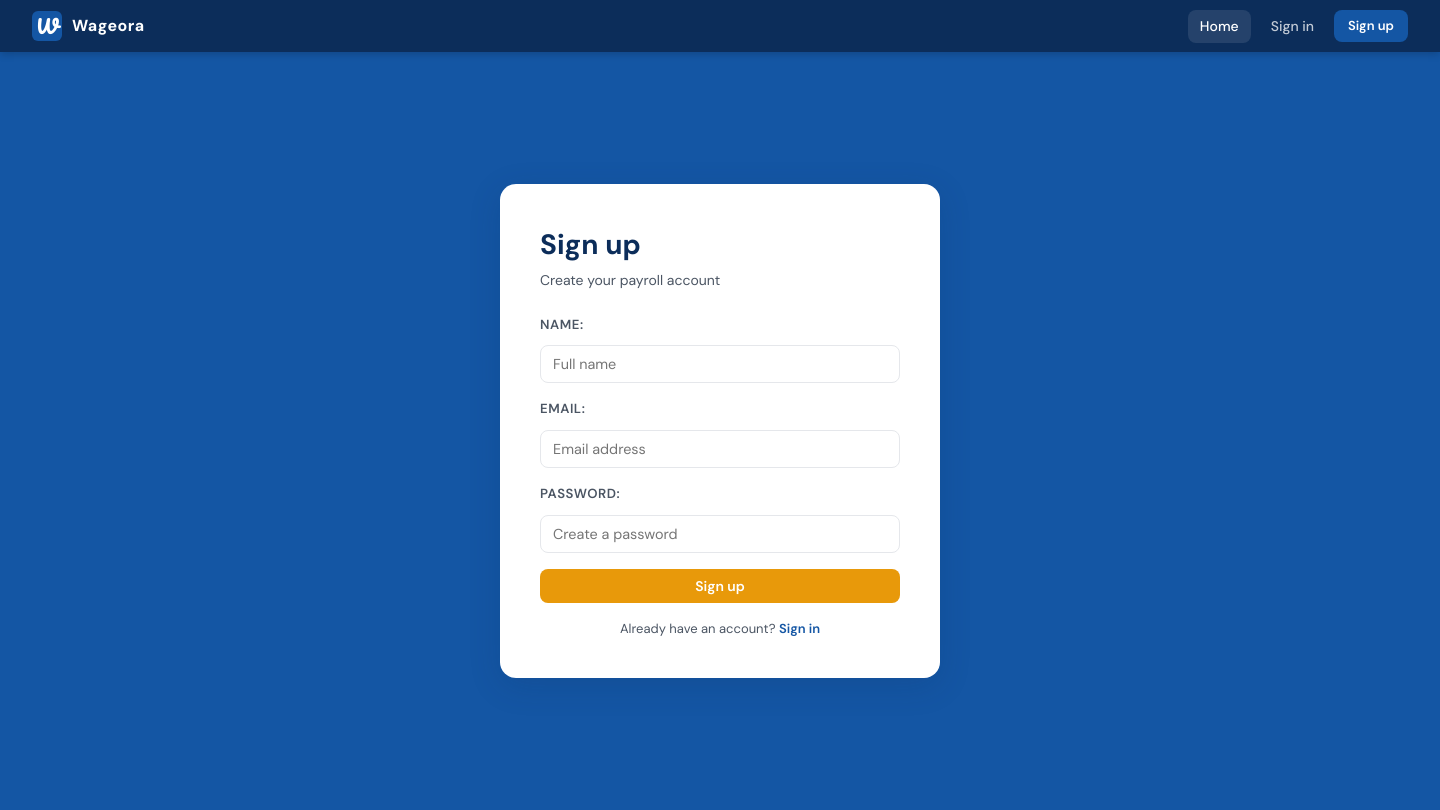
Scenario: SignUpPage › shows password error for short password
The image size is (1440, 810).
Type "Valid Name" into the field with placeholder "Full name" at (720, 364), box [540,345,900,383]
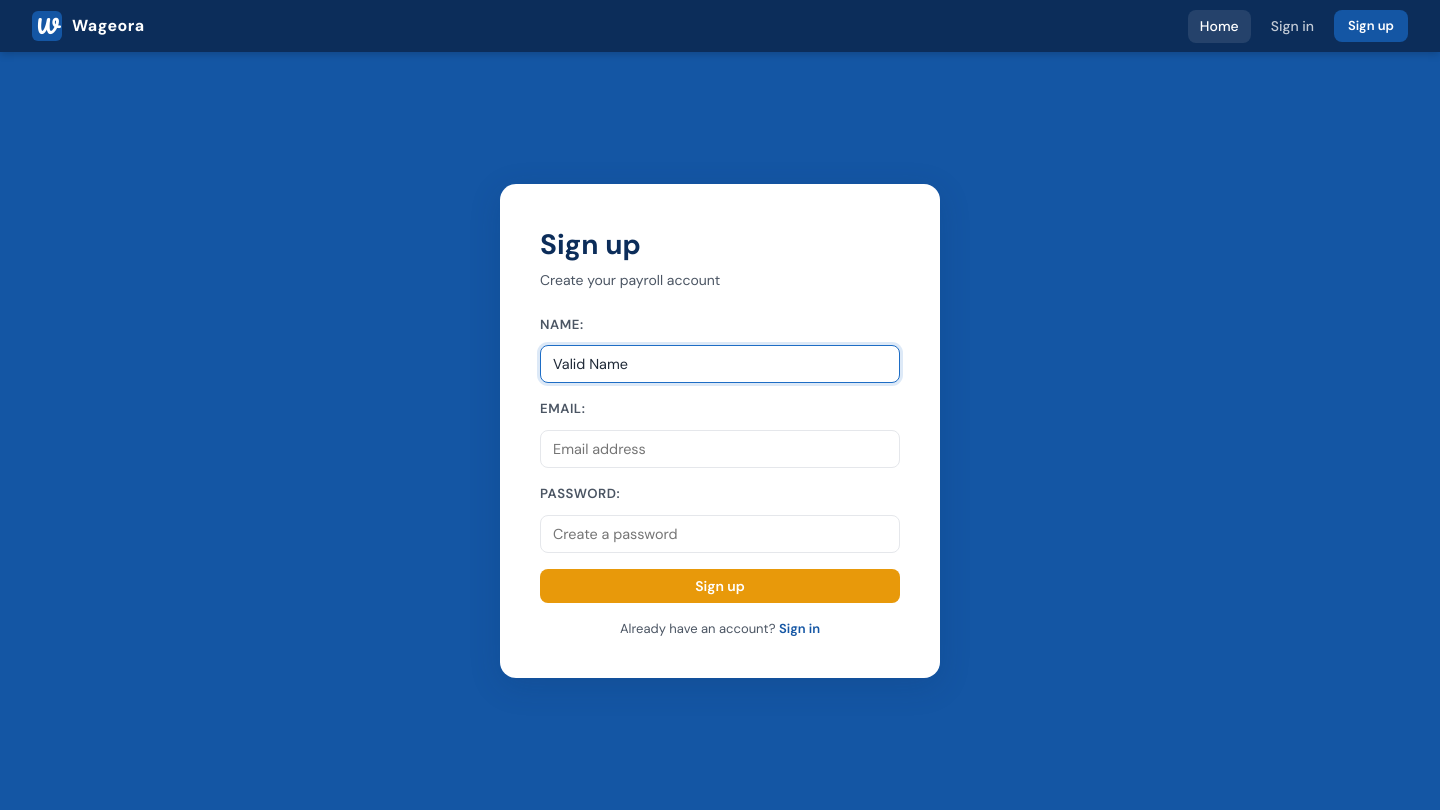
Type "a@b.com" into the field with placeholder "Email address" at (720, 449), box [540,430,900,468]
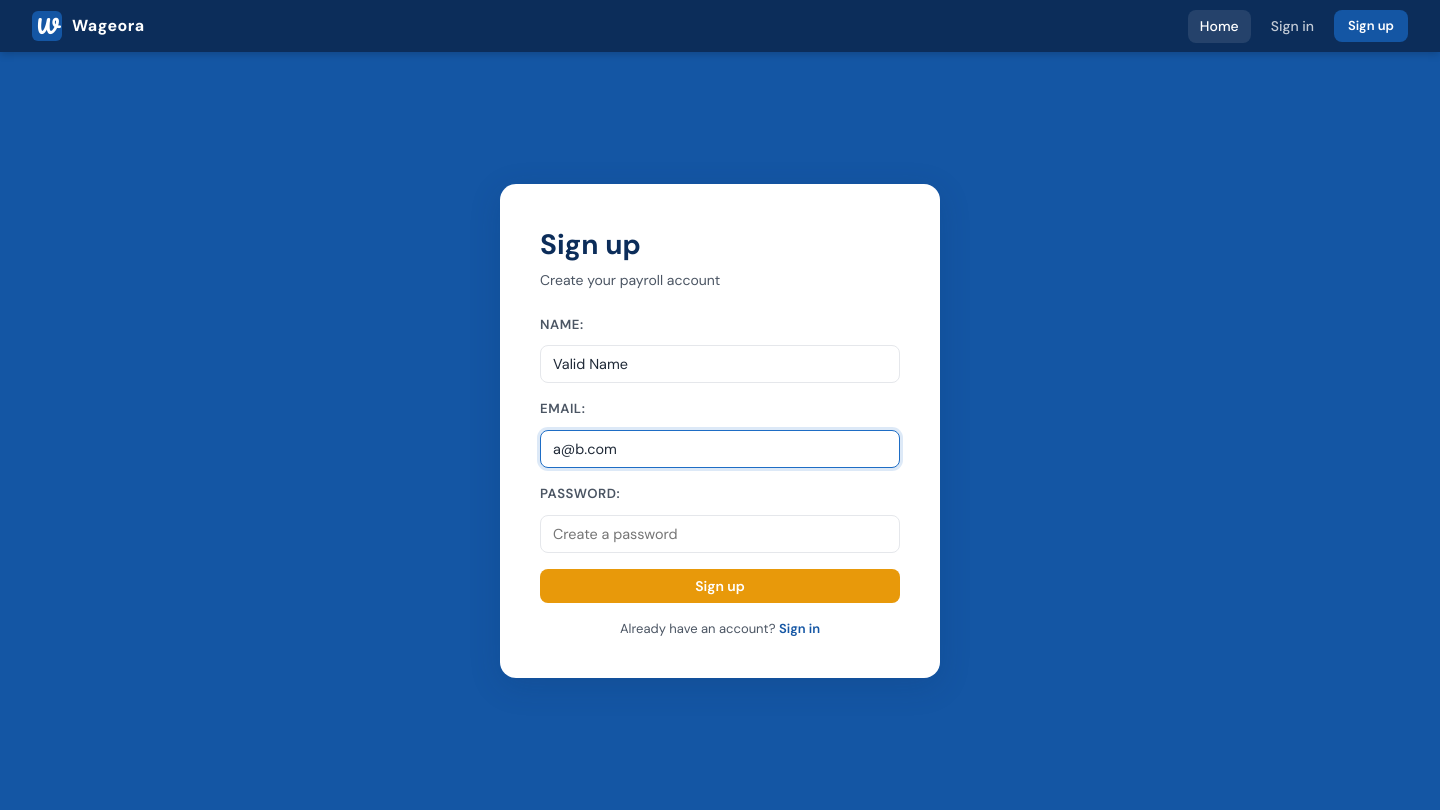
Type "123" into the password field with placeholder "Create a password" at (720, 534), box [540,515,900,553]
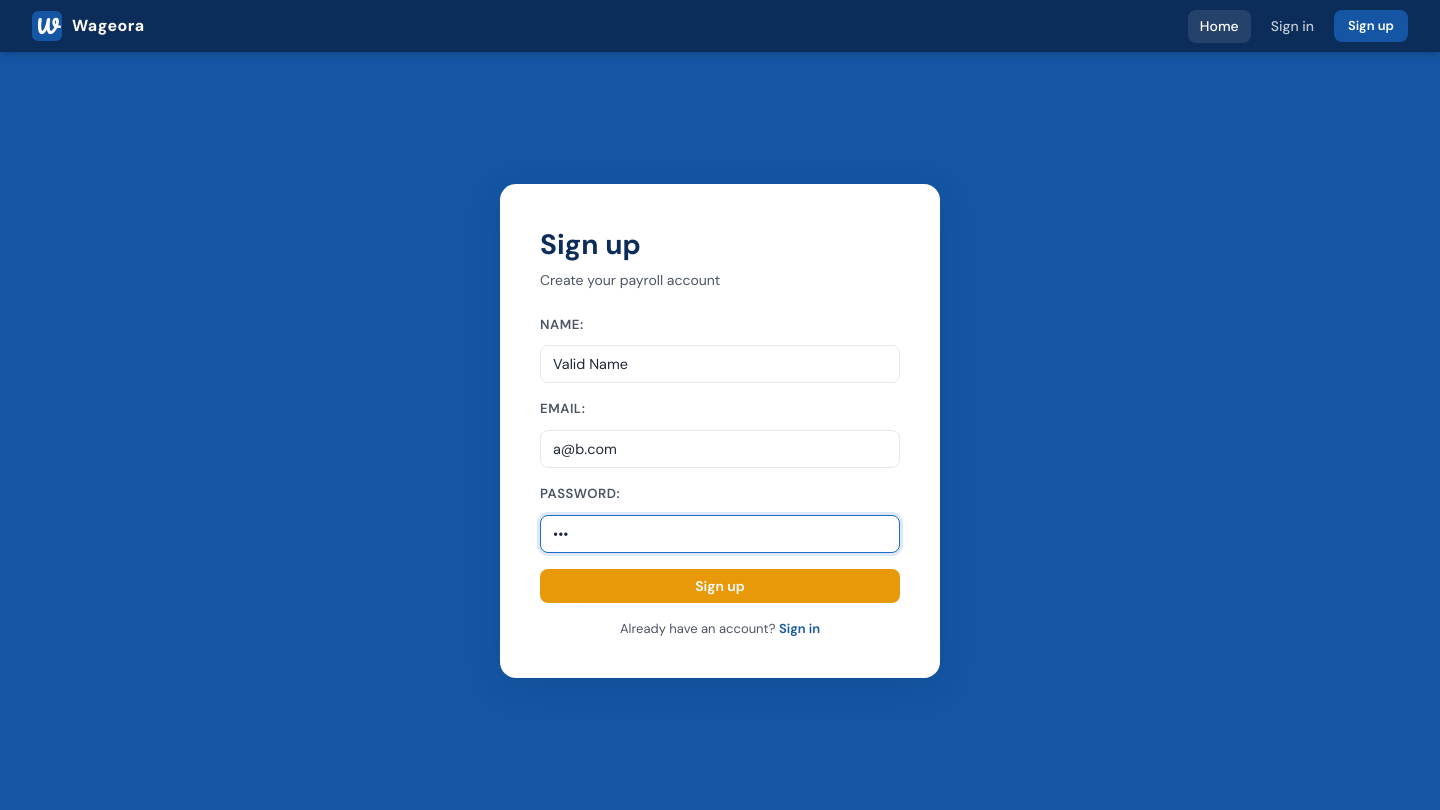
Click the button "Sign up" at (720, 586), box [540,569,900,603]
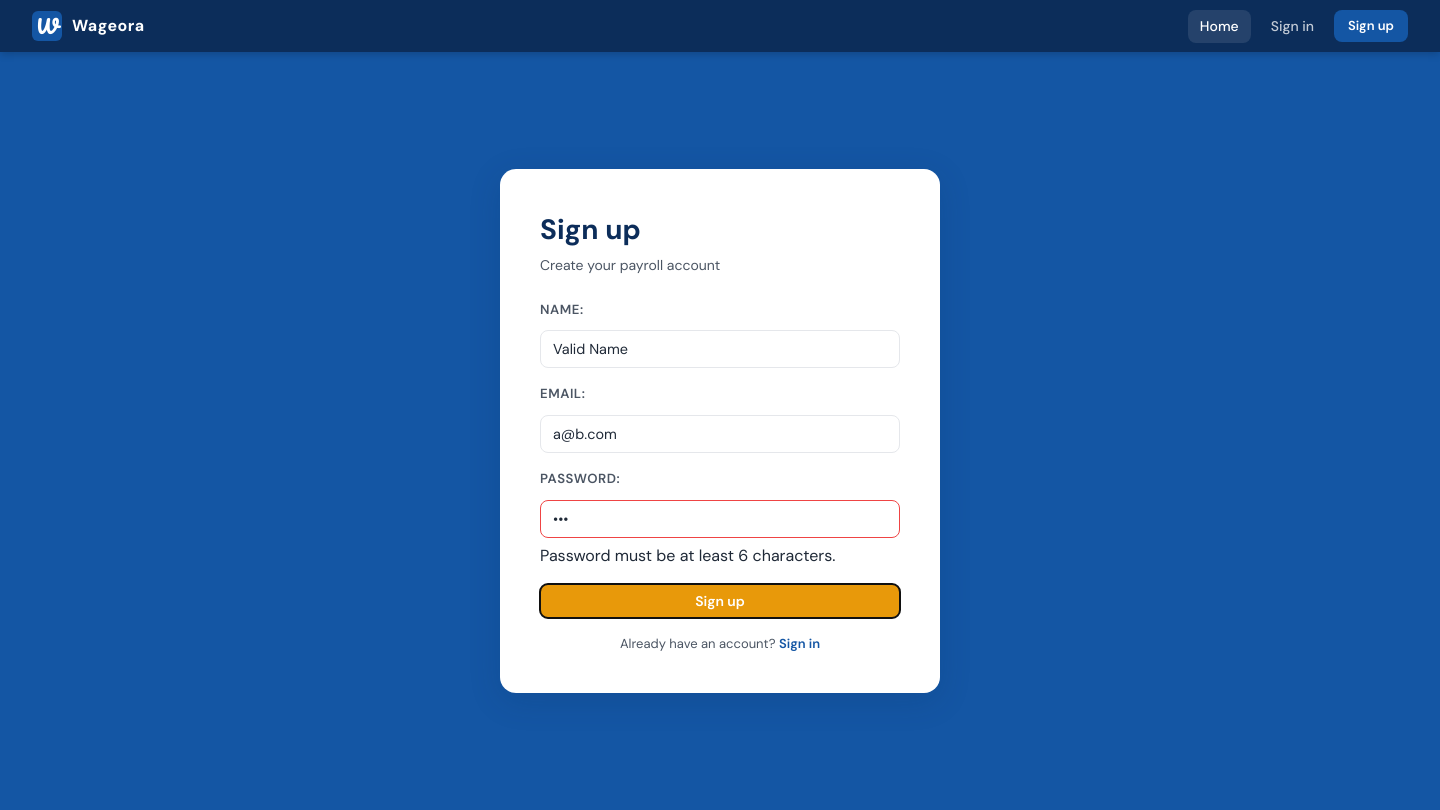
Result: the text "Password must be at least 6 characters." is shown at [540,545,835,566]
